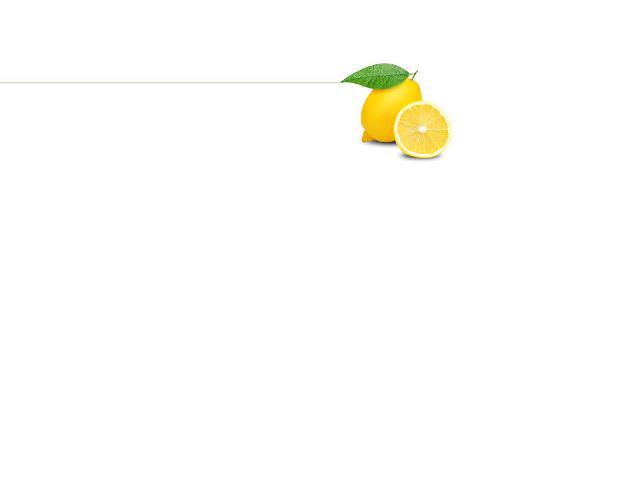lemon: (352, 67, 426, 147)
